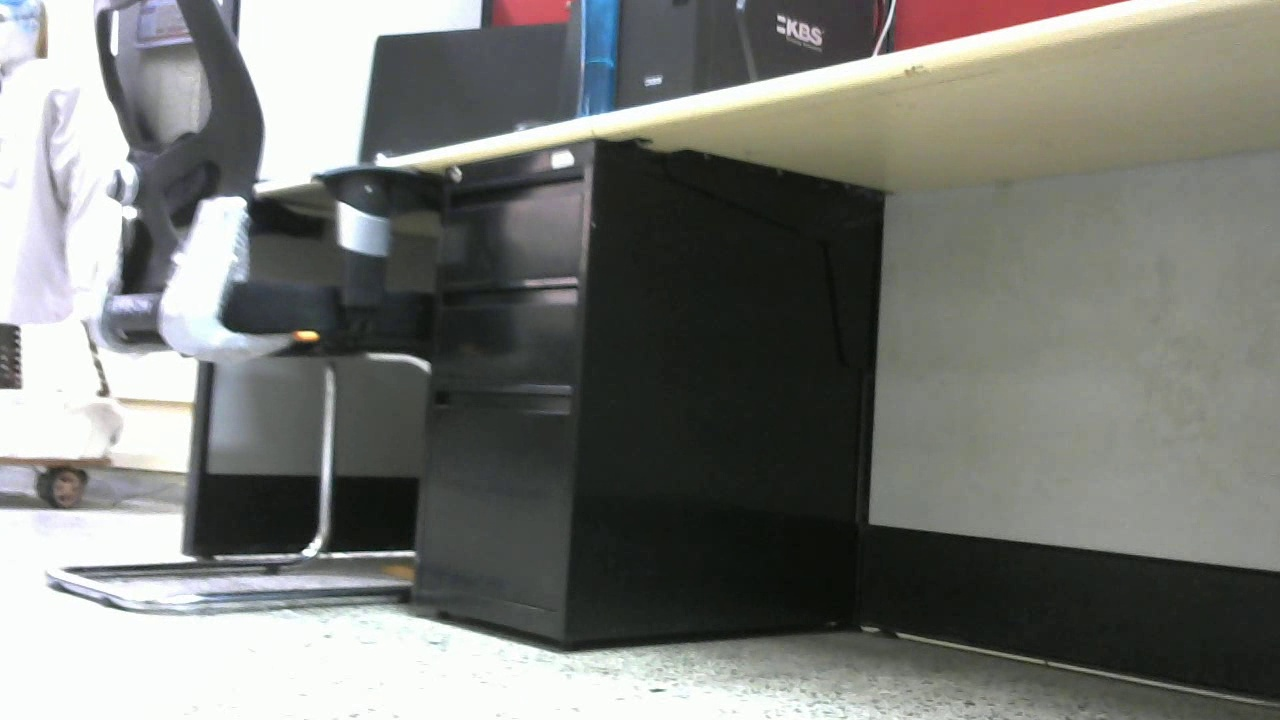chair: (43, 1, 437, 614)
